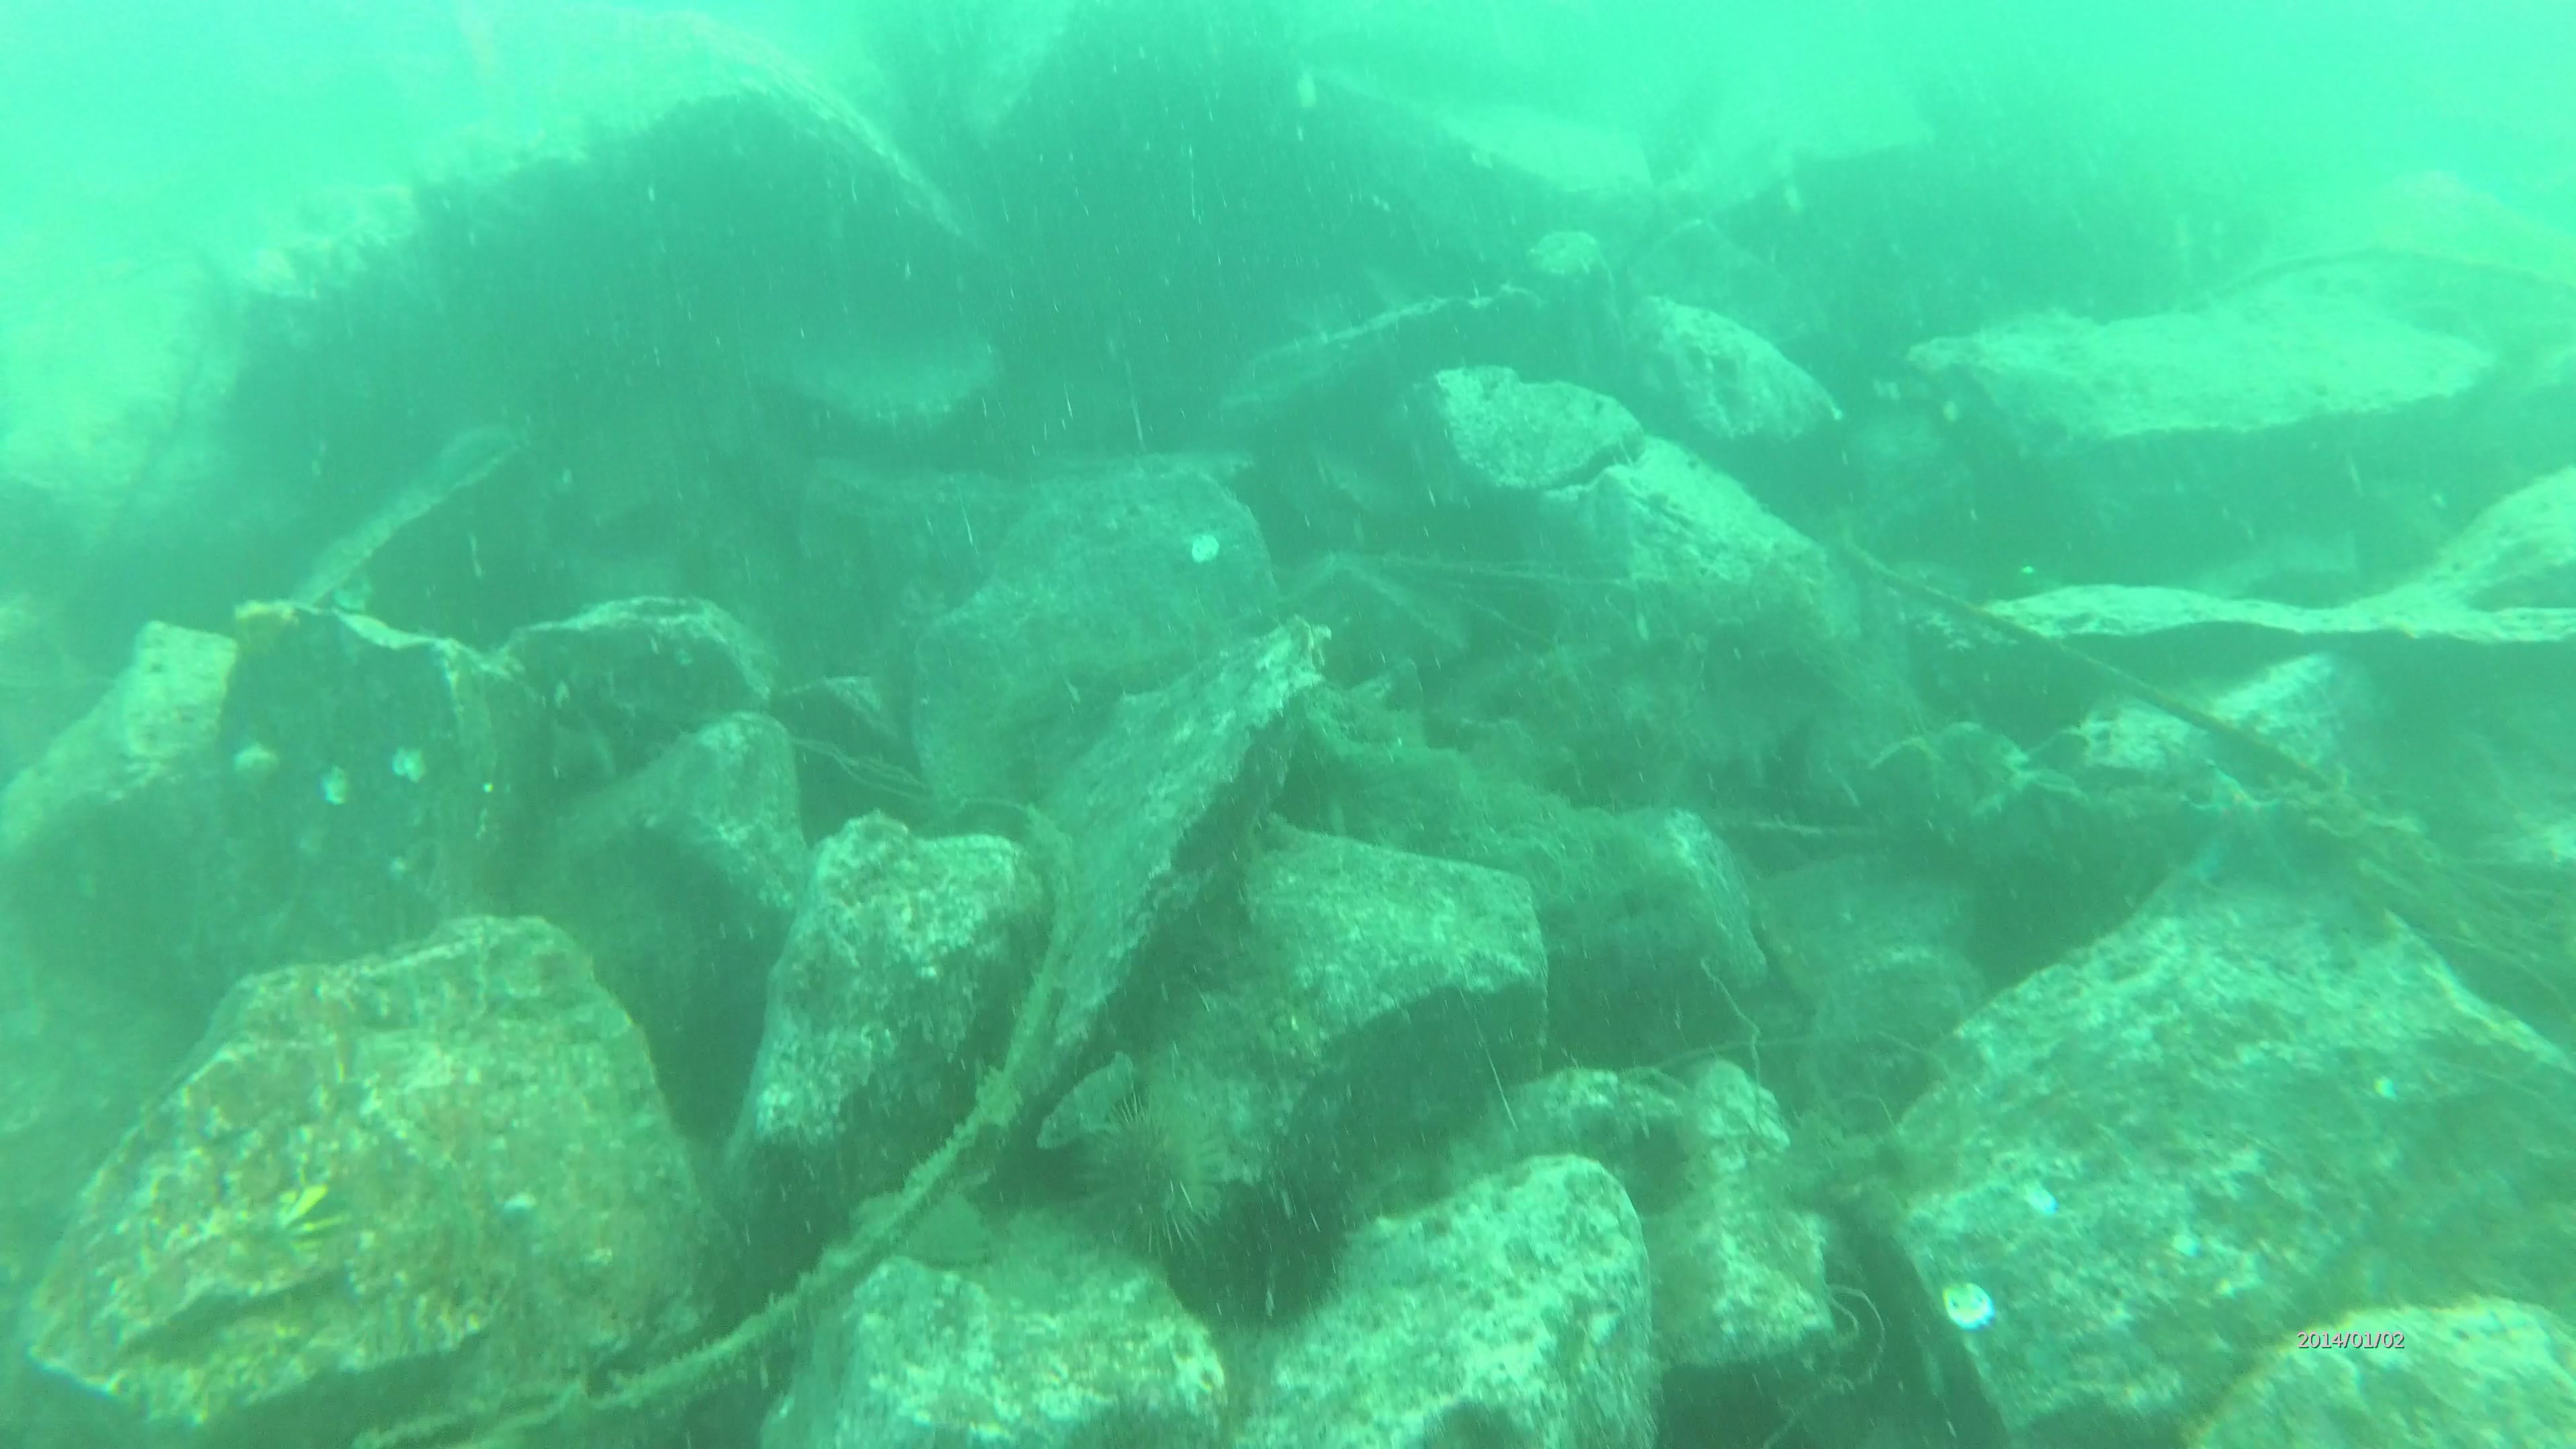echinus: (1207, 1161, 1352, 1322), (1074, 1109, 1219, 1253)
